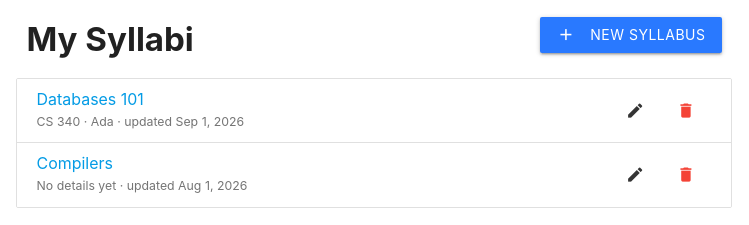
Test: SyllabusList › deletes after confirmation
This screenshot has width=749, height=225.
Expected: the link "Compilers" is shown, [37,154,113,173]
Click the button named "delete compilers" at (686, 175), box [660,157,711,193]
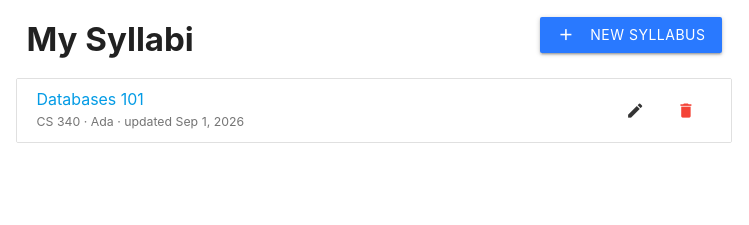
Now the link "Compilers" is gone
